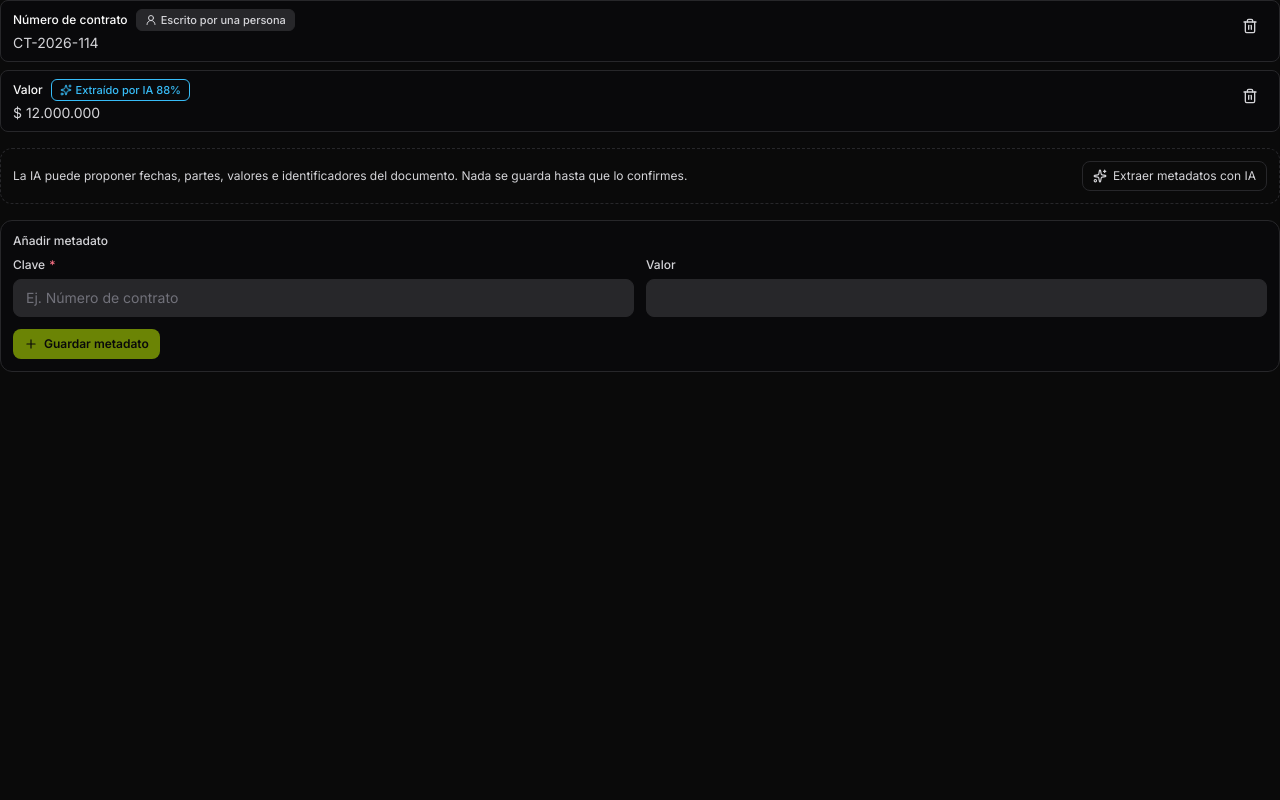
Test: MetadataTab · metadatos extraídos frente a los humanos › pide la extracción sin persistir y muestra los campos como propuesta
What coordinates should you click on to do the following:
click the button "Extraer metadatos con IA"
I would click on:
 (1174, 176)
Its box is [1082,161,1267,191].
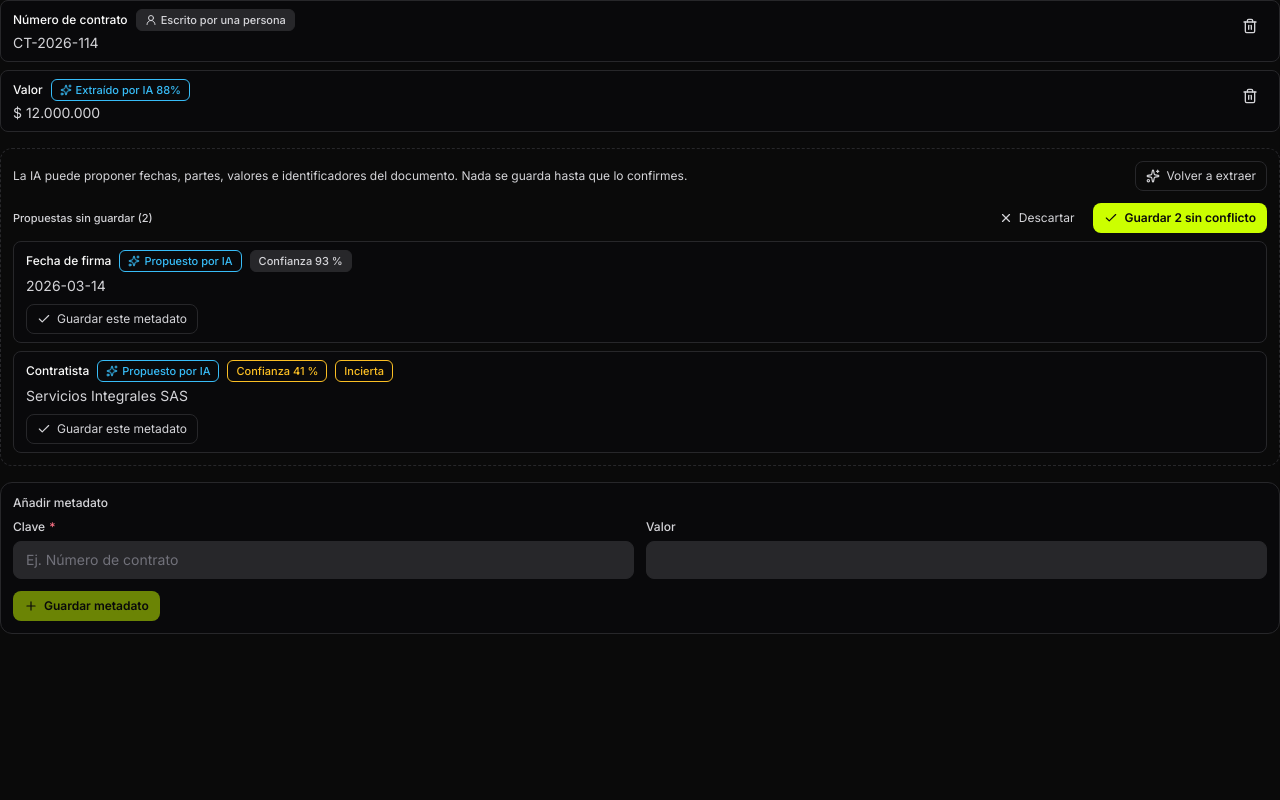
Check: the text "Propuestas sin guardar (2)" is shown, box [13,210,153,226]
Check: the text "Propuesto por IA" is shown 2 times, box [119,250,242,272]; [97,360,220,382]
Check: the text "Confianza 93 %" is shown, box [250,250,352,272]
